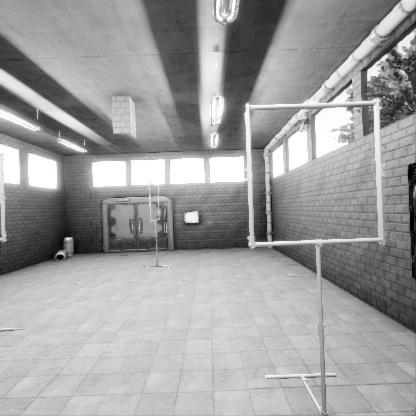gate: (250, 174, 400, 323), (149, 195, 159, 235)
